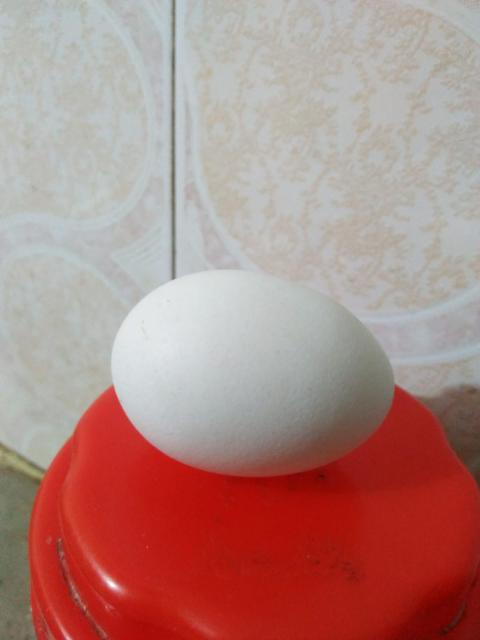Sano: (110, 269, 394, 479)
